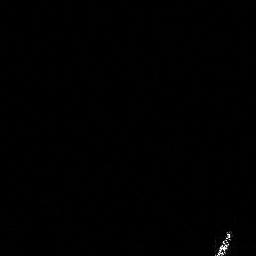ship: (209, 227, 235, 256)
